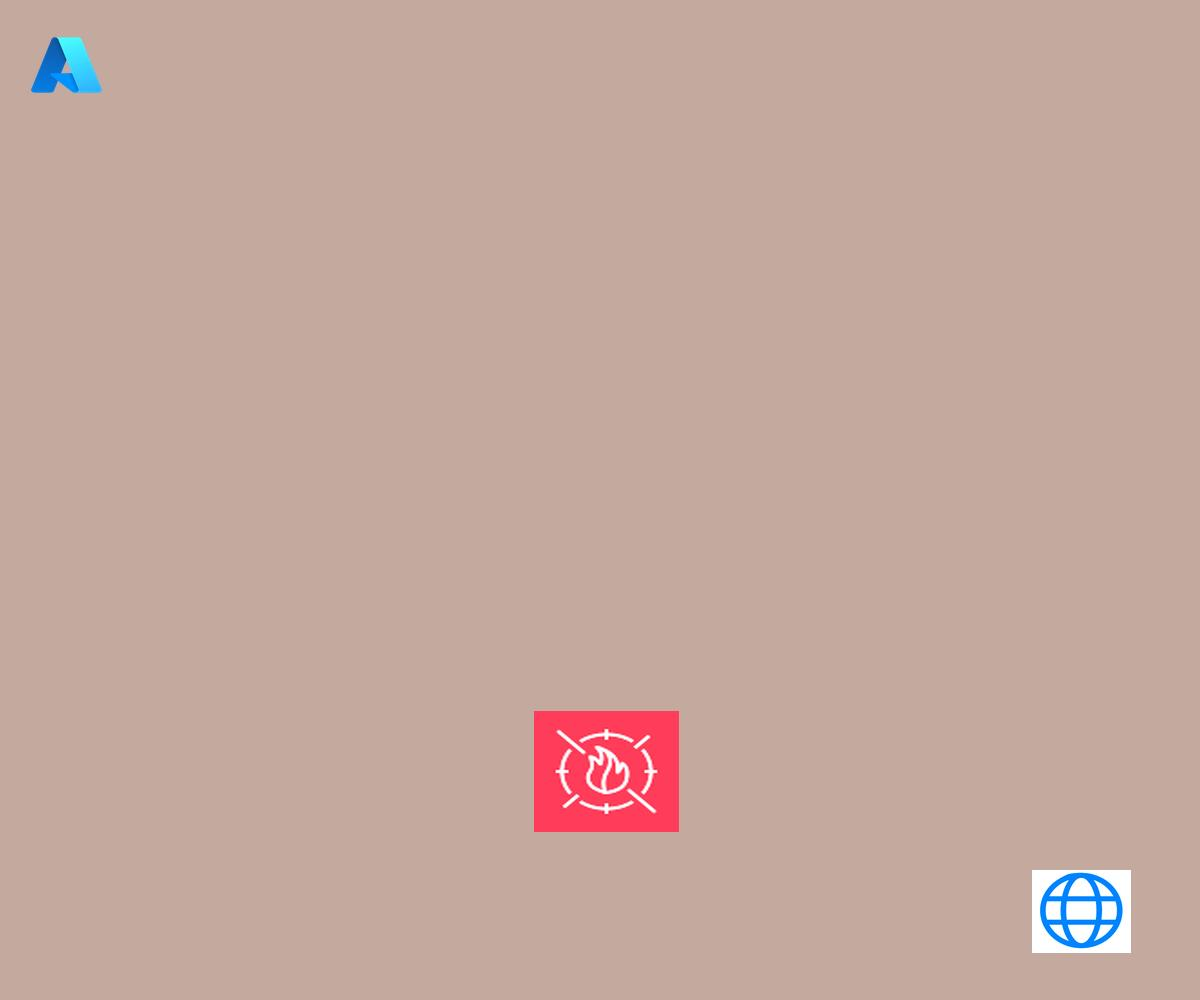AWS-WAF: (534, 711, 679, 832)
Azure_http: (1032, 870, 1131, 953)
Azure_services: (28, 33, 105, 97)
